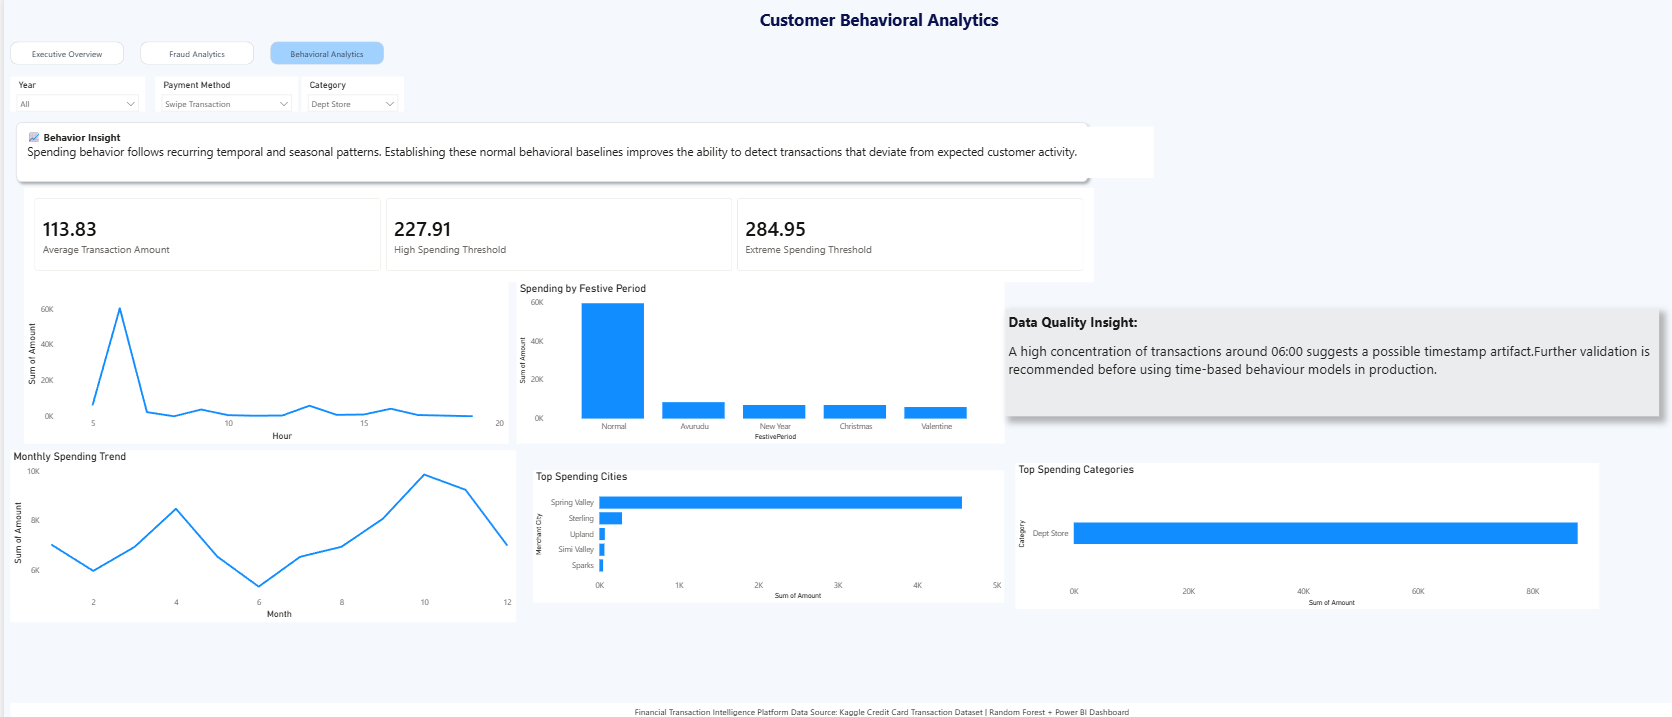

This screenshot's page, from the dashboard's own definition file:
{"tool":"powerbi","page":{"name":"Behavioral Analytics","canvas":[1600,1400],"ordinal":2},"visuals":[{"type":"textbox","box":[0,0,1600,75.7],"z":0},{"type":"slicer","fields":{"Values":["cleaned_transactions.Year"]},"box":[10,132.9,215.7,55.7],"z":1000},{"type":"slicer","fields":{"Values":["cleaned_transactions.Use Chip"]},"box":[242.9,132.9,228.6,55.7],"z":2000},{"type":"slicer","fields":{"Values":["cleaned_transactions.Category"]},"box":[475.7,132.9,164.3,55.7],"z":3000},{"type":"lineChart","title":"Spending by Hour","fields":{"Category":["cleaned_transactions.Hour"],"Y":["Sum(cleaned_transactions.Amount)"]},"box":[32,520,774,250],"z":4000},{"type":"lineChart","title":"Monthly Spending Trend","fields":{"Category":["cleaned_transactions.Month"],"Y":["Sum(cleaned_transactions.Amount)"]},"box":[58,798,768,236],"z":6000},{"type":"columnChart","title":"Spending by Festive Period","fields":{"Category":["cleaned_transactions.FestivePeriod"],"Y":["Sum(cleaned_transactions.Amount)"]},"box":[844,798,728,274],"z":7000},{"type":"barChart","title":"Top Spending Categories","fields":{"Category":["cleaned_transactions.Category"],"Y":["Sum(cleaned_transactions.Amount)"]},"box":[58,1082,768,236],"z":8000},{"type":"barChart","title":"Top Spending Cities","fields":{"Category":["cleaned_transactions.Merchant City"],"Y":["Sum(cleaned_transactions.Amount)"]},"box":[870,1124,676,210],"z":9000},{"type":"pageNavigator","box":[10,75.7,600,37.1],"z":9001},{"type":"textbox","box":[10,1370,1590,30],"z":9002},{"type":"shape","box":[10,194,1250,98],"z":9003},{"type":"textbox","box":[32,210,1216,54],"z":9004},{"type":"cardVisual","fields":{"Data":["_Measures.Average Transaction Amount","_Measures.High Spending Threshold","_Measures.Extreme Spending Threshold"]},"box":[10,320,1250,150],"z":9005},{"type":"textbox","box":[806,574,590,126],"z":9006}]}

Visuals, with their boxes on the page's 1600x1400 design canvas (x1, y1, x2, y2). These are canvas units, not pixel positions in the 1672x717 screenshot, which may show the page scaled, cropped or inside an application window:
textbox: 0 0 1600 76
slicer - cleaned_transactions.Year: 10 133 226 189
slicer - cleaned_transactions.Use Chip: 243 133 472 189
slicer - cleaned_transactions.Category: 476 133 640 189
"Spending by Hour" lineChart: 32 520 806 770
"Monthly Spending Trend" lineChart: 58 798 826 1034
"Spending by Festive Period" columnChart: 844 798 1572 1072
"Top Spending Categories" barChart: 58 1082 826 1318
"Top Spending Cities" barChart: 870 1124 1546 1334
pageNavigator: 10 76 610 113
textbox: 10 1370 1600 1400
shape: 10 194 1260 292
textbox: 32 210 1248 264
cardVisual - _Measures.Average Transaction Amount x _Measures.High Spending Threshold: 10 320 1260 470
textbox: 806 574 1396 700
